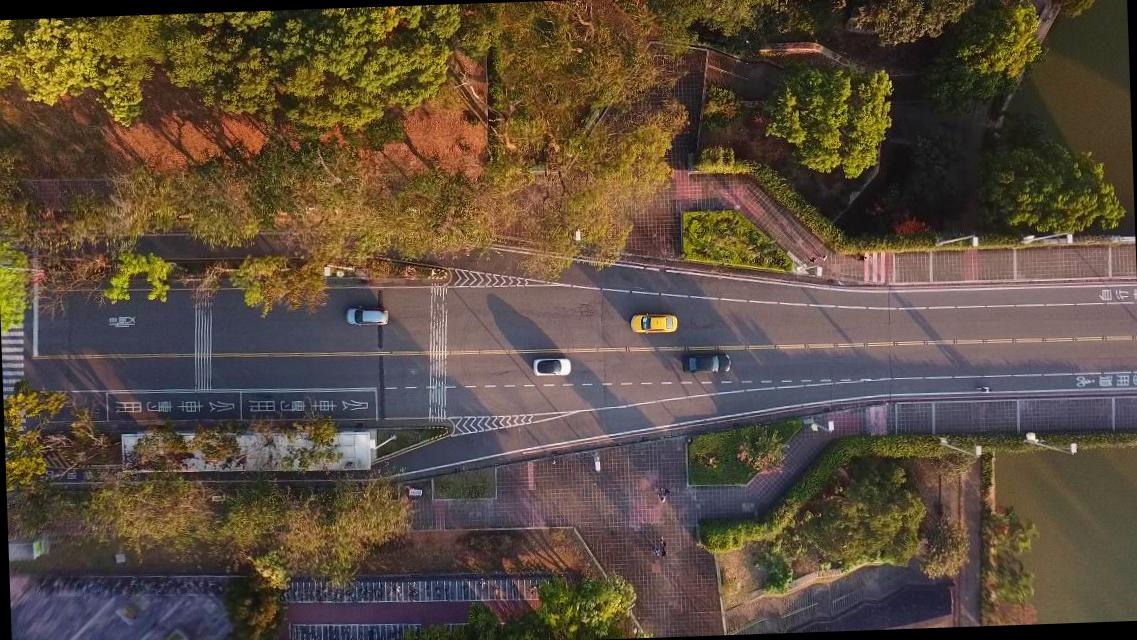vehicle: (628, 311, 678, 335), (681, 352, 730, 374), (344, 304, 388, 326), (531, 356, 570, 376)
